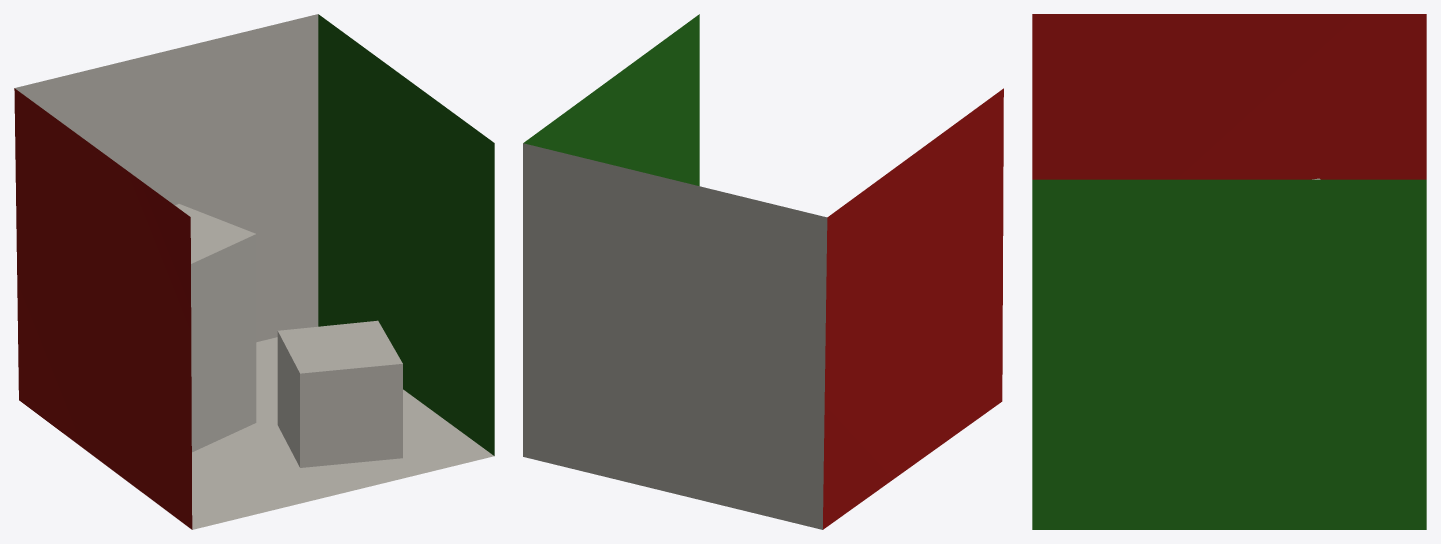
The model's file is CornellBox-Original.obj.
The picture shows the model from 3 angles, left to right: view 1: azimuth 30°, elevation 25°; view 2: azimuth 150°, elevation 25°; view 3: azimuth 270°, elevation 25°; orthographic projection. The views are drawn at different scales.
Parts seen in each view (by area): view 1: CornellBox-Original; view 2: CornellBox-Original; view 3: CornellBox-Original.
Boxes of the visible parts, x1,y1,x2,y2 form: CornellBox-Original: (14,14,494,529); CornellBox-Original: (523,14,1003,529); CornellBox-Original: (1032,14,1426,529).
Bounding box in the file's own units: 2.02 × 1.99 × 2.03.
